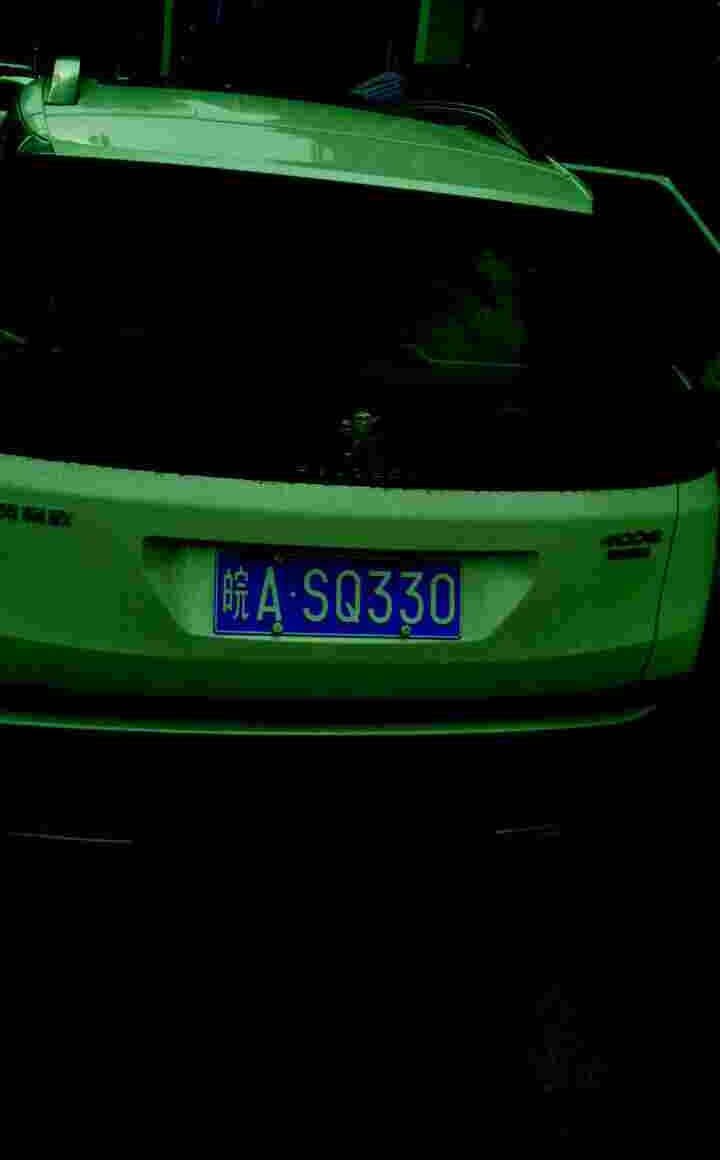license_plate: (201, 553, 465, 649)
